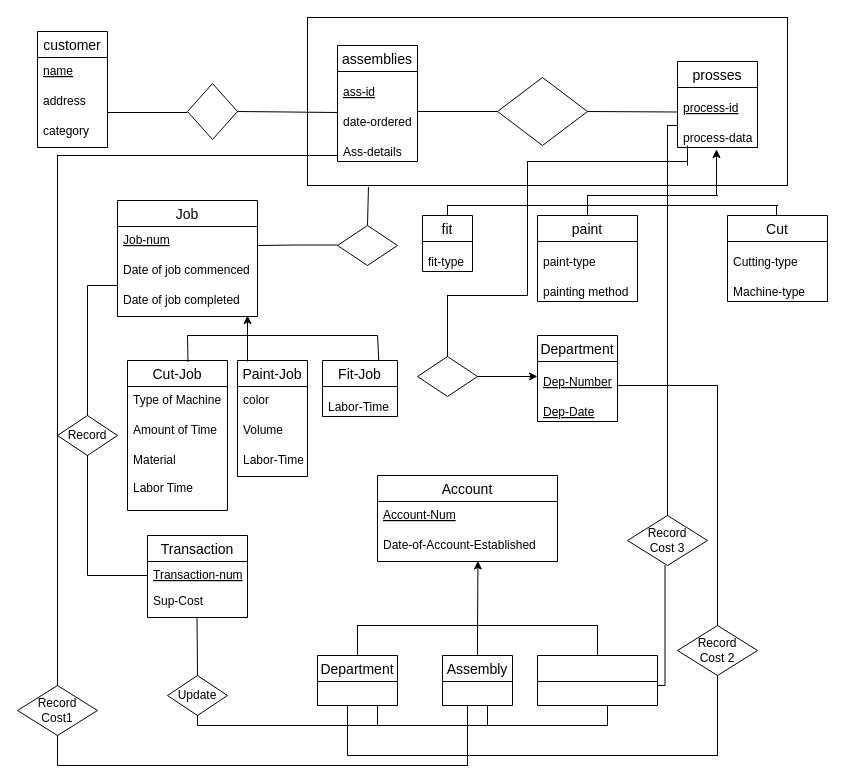
The diagram is 845 pixels wide and 783 high, and some of its shapes have lost their labels. Here are the shapes that lost their labels. From the top down, the centre of each, then its label:
At [212,111]: "order".
At [542,111]: "pass through".
At [367,245]: "assign".
At [447,376]: "suprvise".
At [597,680]: "Process-Account".
